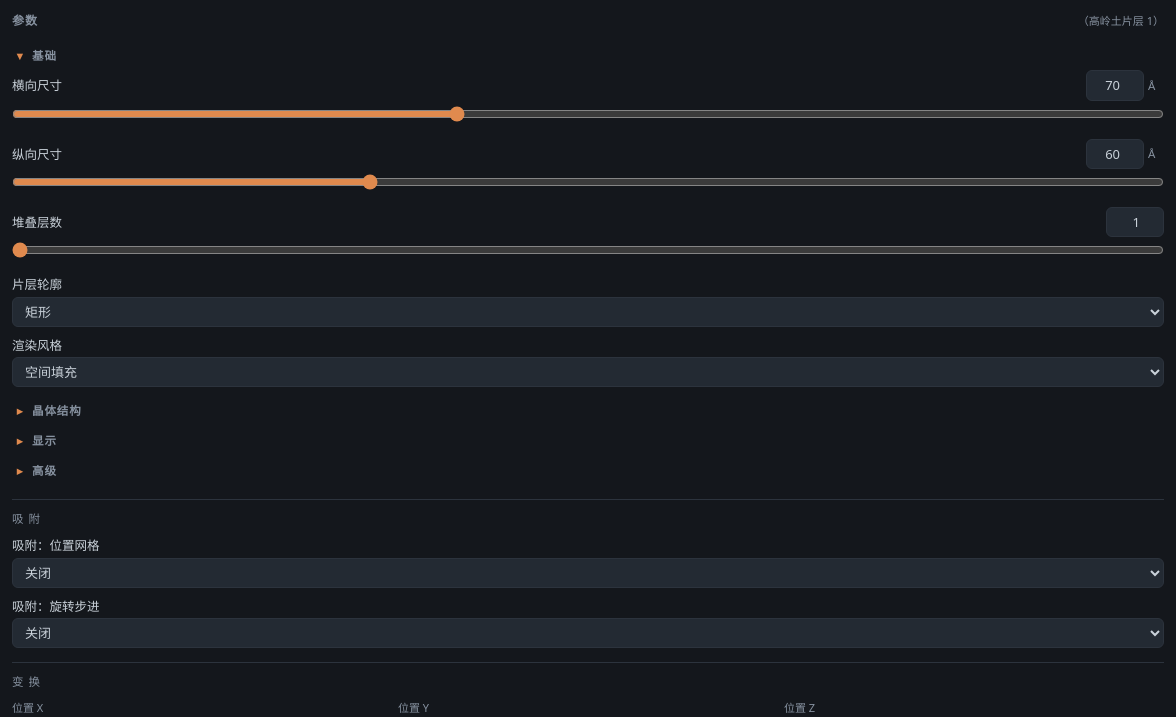
ParamPanel 分组与 NumberSlider（Phase2） › 选中片层 → 分组 Accordion：基础默认展开、高级折叠；滑块+数字输入双向存在
The image size is (1176, 717).
Expected: the text "晶学严格模式" is not shown
Click the button with class "acc-head" showing "▸ 高级": click(20, 470) 12,456 -> 1164,485
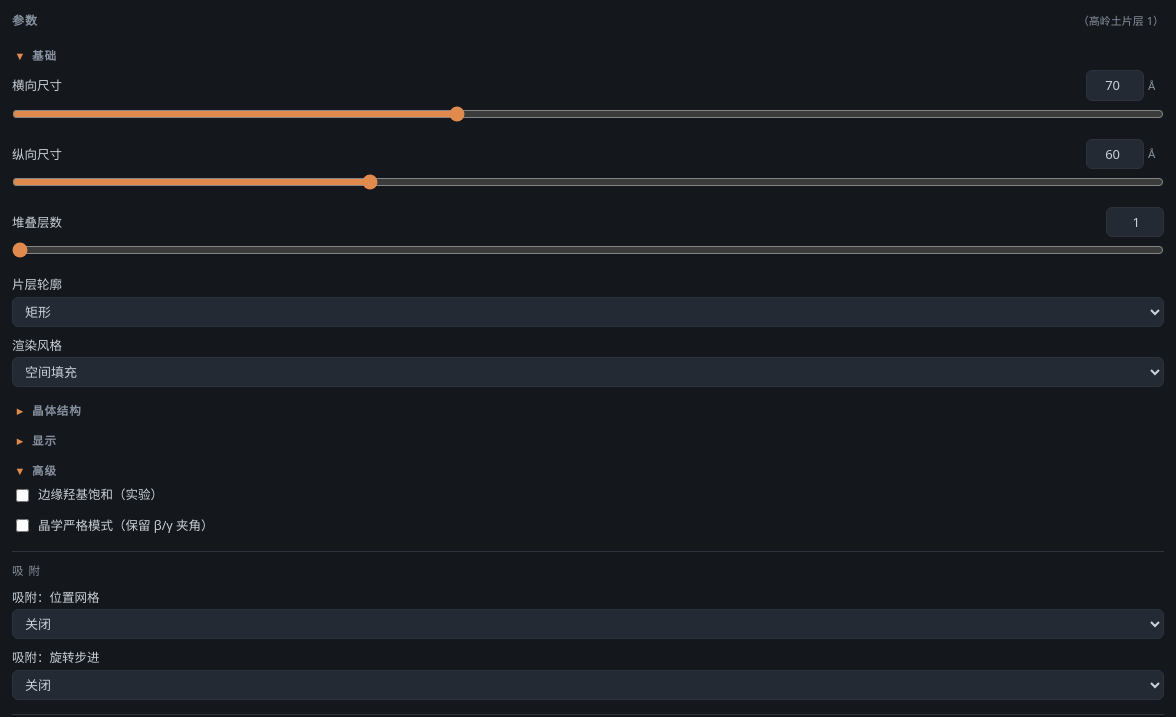
Expected: the number field with class "numin" in the row of "横向尺寸" is shown, 1086,70 -> 1144,100
Result: the text "晶学严格模式" is shown at 38,517 -> 214,534
